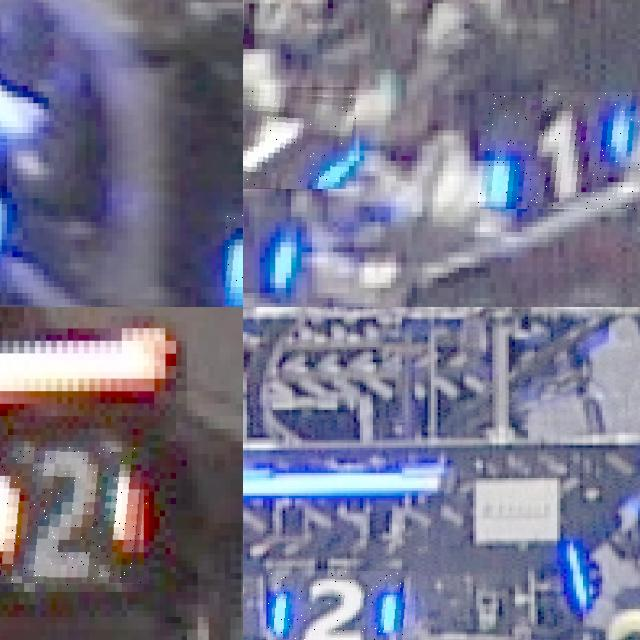B1: (477, 92, 640, 209), (243, 87, 356, 188), (243, 191, 307, 287)
B2: (267, 571, 416, 640)
R2: (0, 447, 149, 585)
